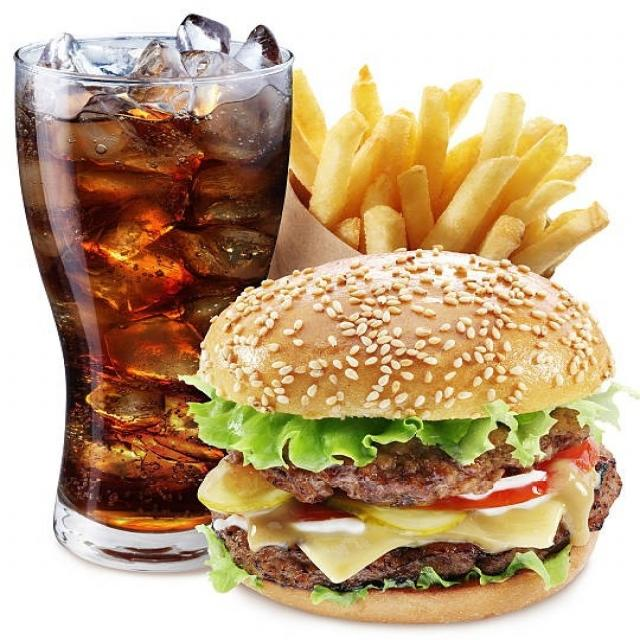burger: (190, 246, 620, 626)
frenchfries: (287, 68, 613, 274)
